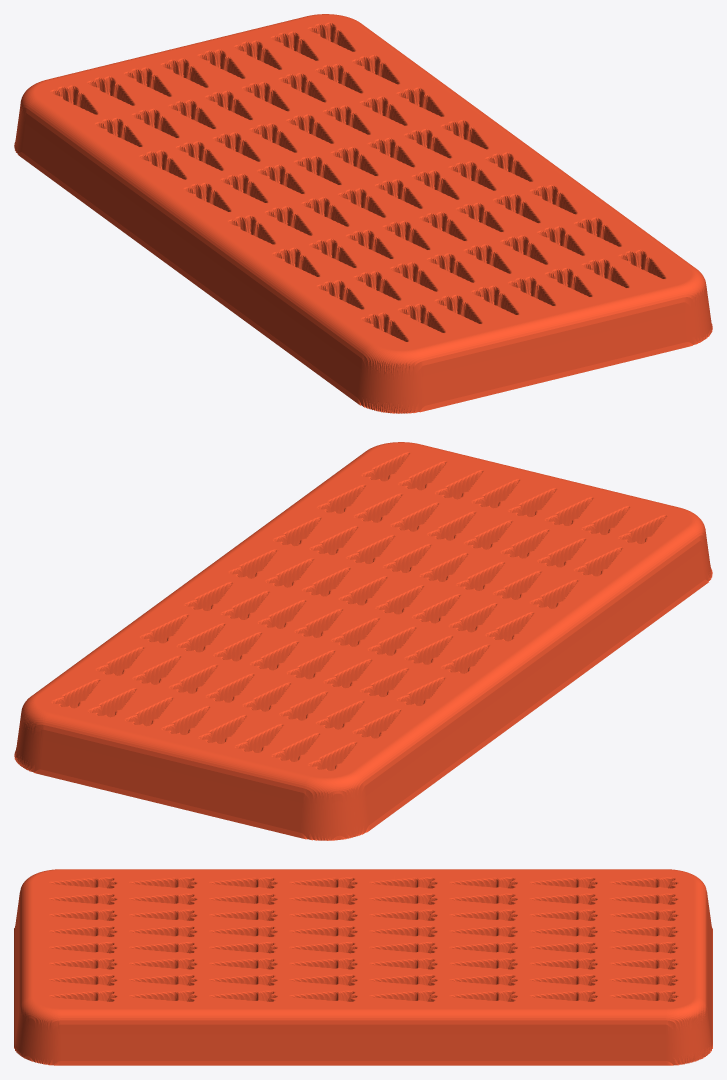
File: mold.glb
The picture shows the model from 3 angles, top to bottom: view 1: azimuth 30°, elevation 25°; view 2: azimuth 150°, elevation 25°; view 3: azimuth 270°, elevation 25°; orthographic projection. The views are drawn at different scales.
Parts seen in each view (by area): view 1: geometry_0; view 2: geometry_0; view 3: geometry_0.
Part boxes in pixels (x1,y1,x2,y2): geometry_0: (14, 14, 712, 413); geometry_0: (14, 442, 712, 840); geometry_0: (14, 869, 712, 1065).
Bounding box in the file's own units: 0.0707 × 0.0105 × 0.1355.
